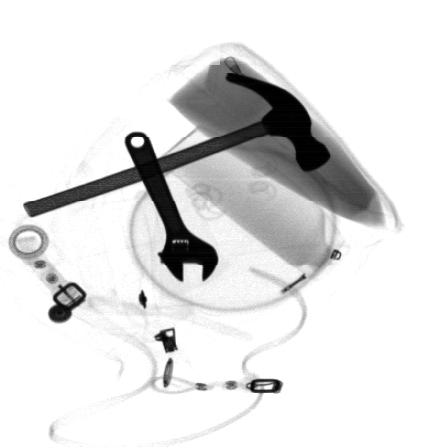Hammer: (22, 71, 334, 221)
Wrench: (124, 130, 219, 285)
